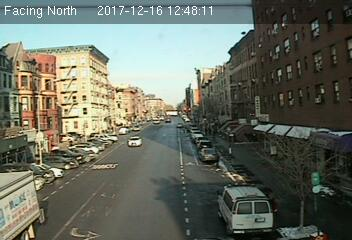car: (200, 147, 219, 161), (127, 136, 144, 148)
police: (217, 181, 273, 233)
